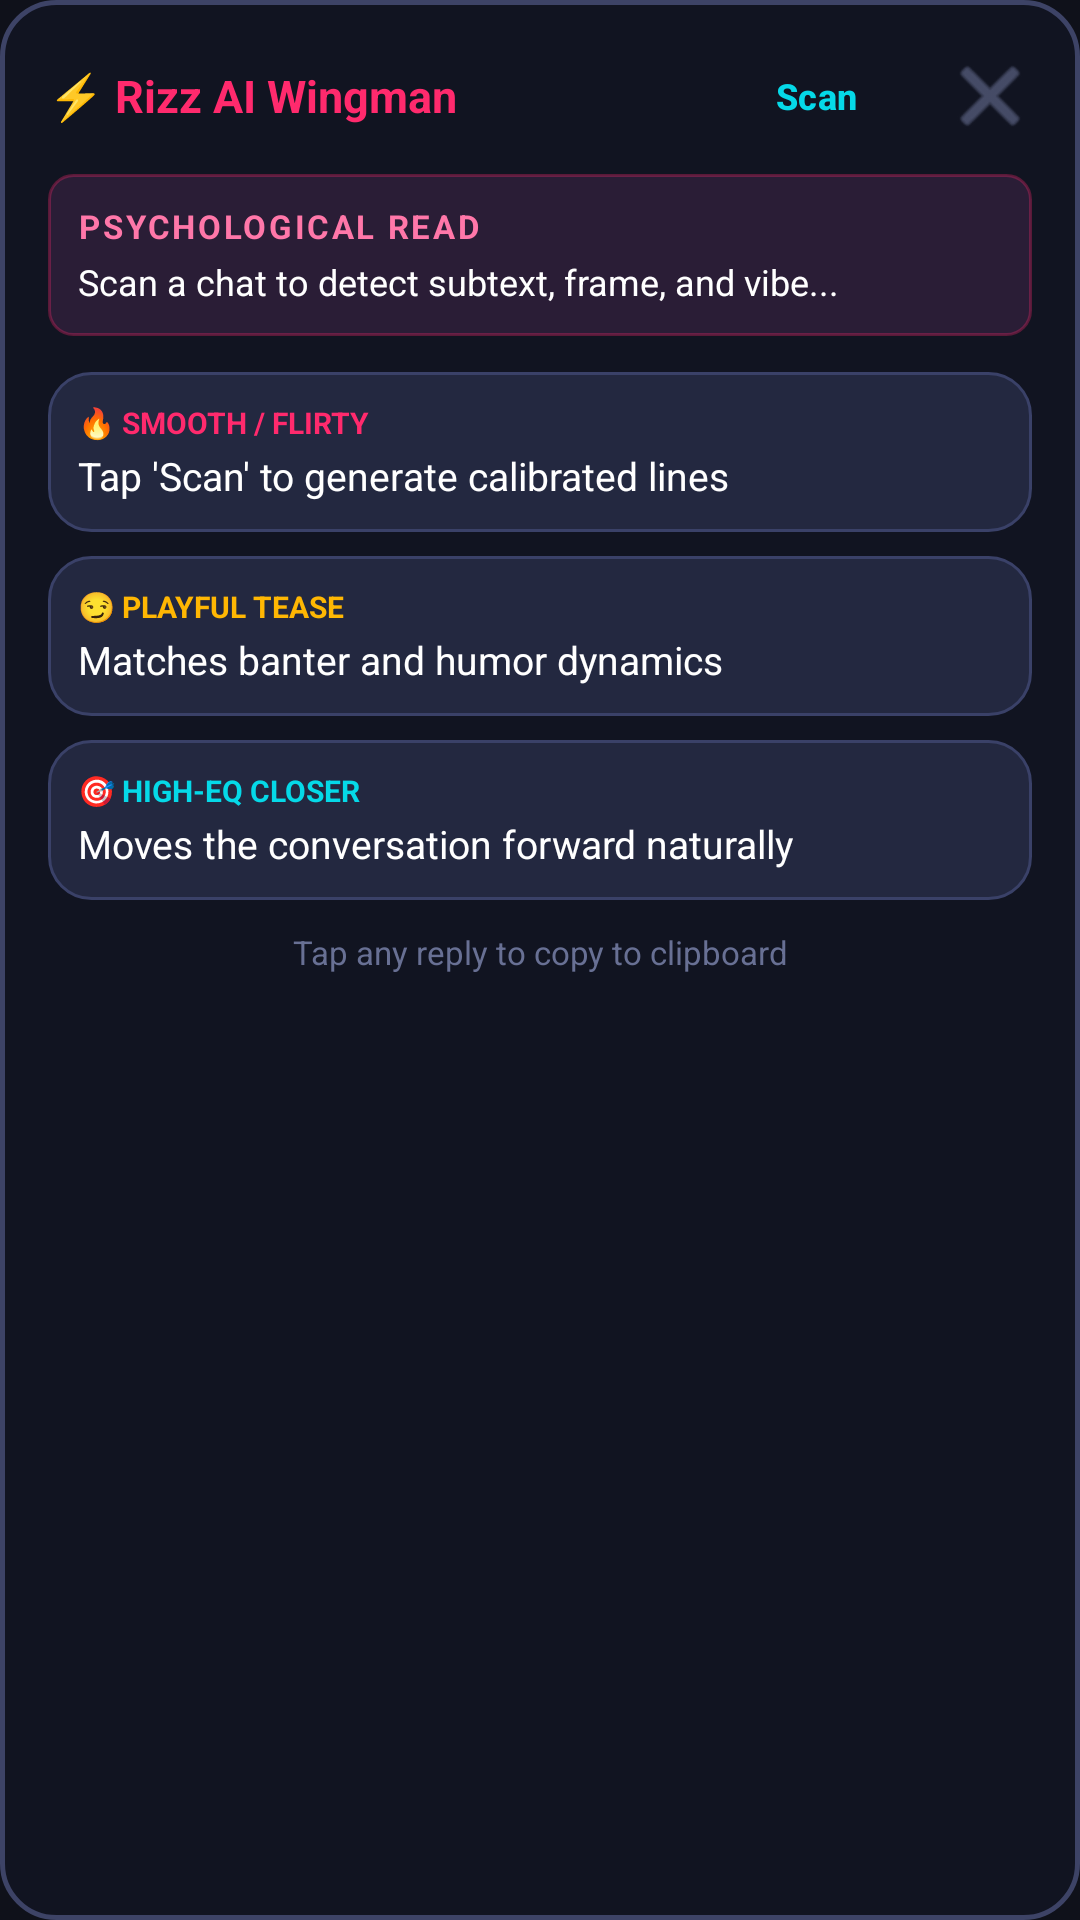

Icons on this 1080 x 1920 Android screen, each with its box as {"left": x1, "top": y1, "right": x2, "bottom": y2}:
Close HUD: {"left": 961, "top": 67, "right": 1019, "bottom": 125}
